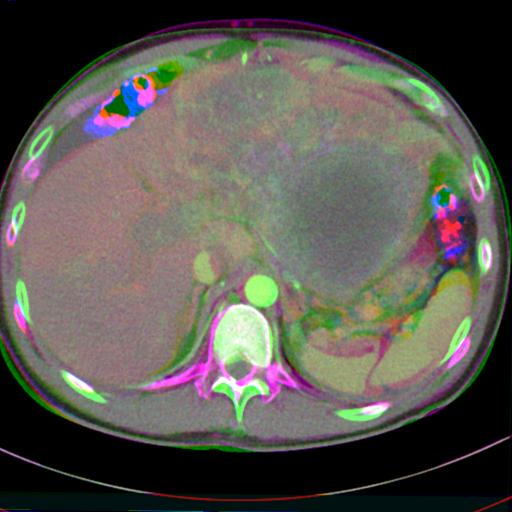Tumor: (177, 65, 294, 208)
